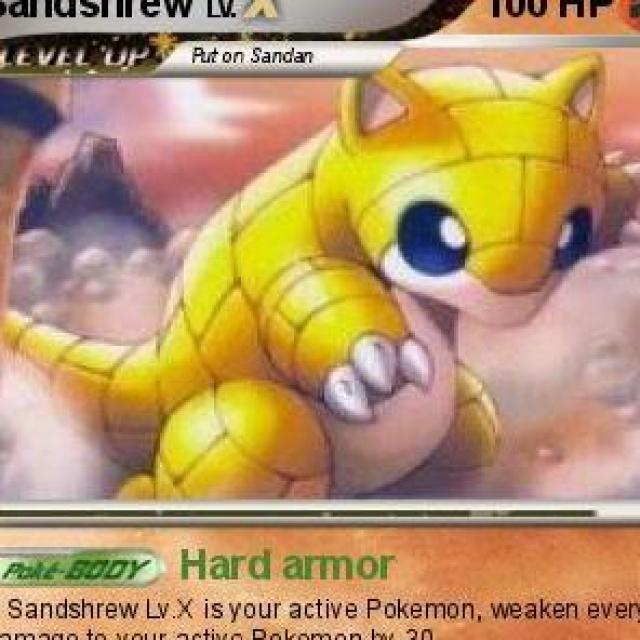Sandshrew: (136, 62, 623, 499)
